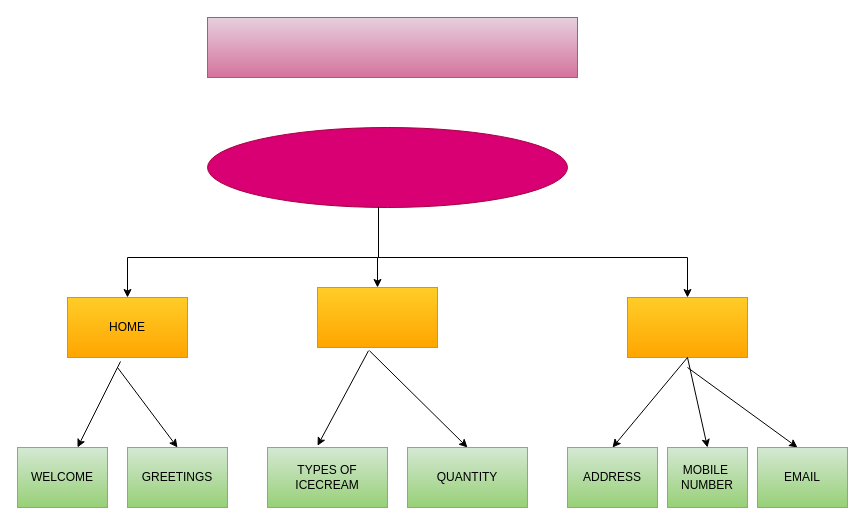
This 865x525 diagram has some shape labels left out. Each missing label, with the centre of its shape:
"CONTACT" goes at pixel 687 327.
"MENU" goes at pixel 377 317.
"THE FROZEN FROSTS" goes at pixel 392 47.
"WEBSITE ENTRY POINT" goes at pixel 387 167.
